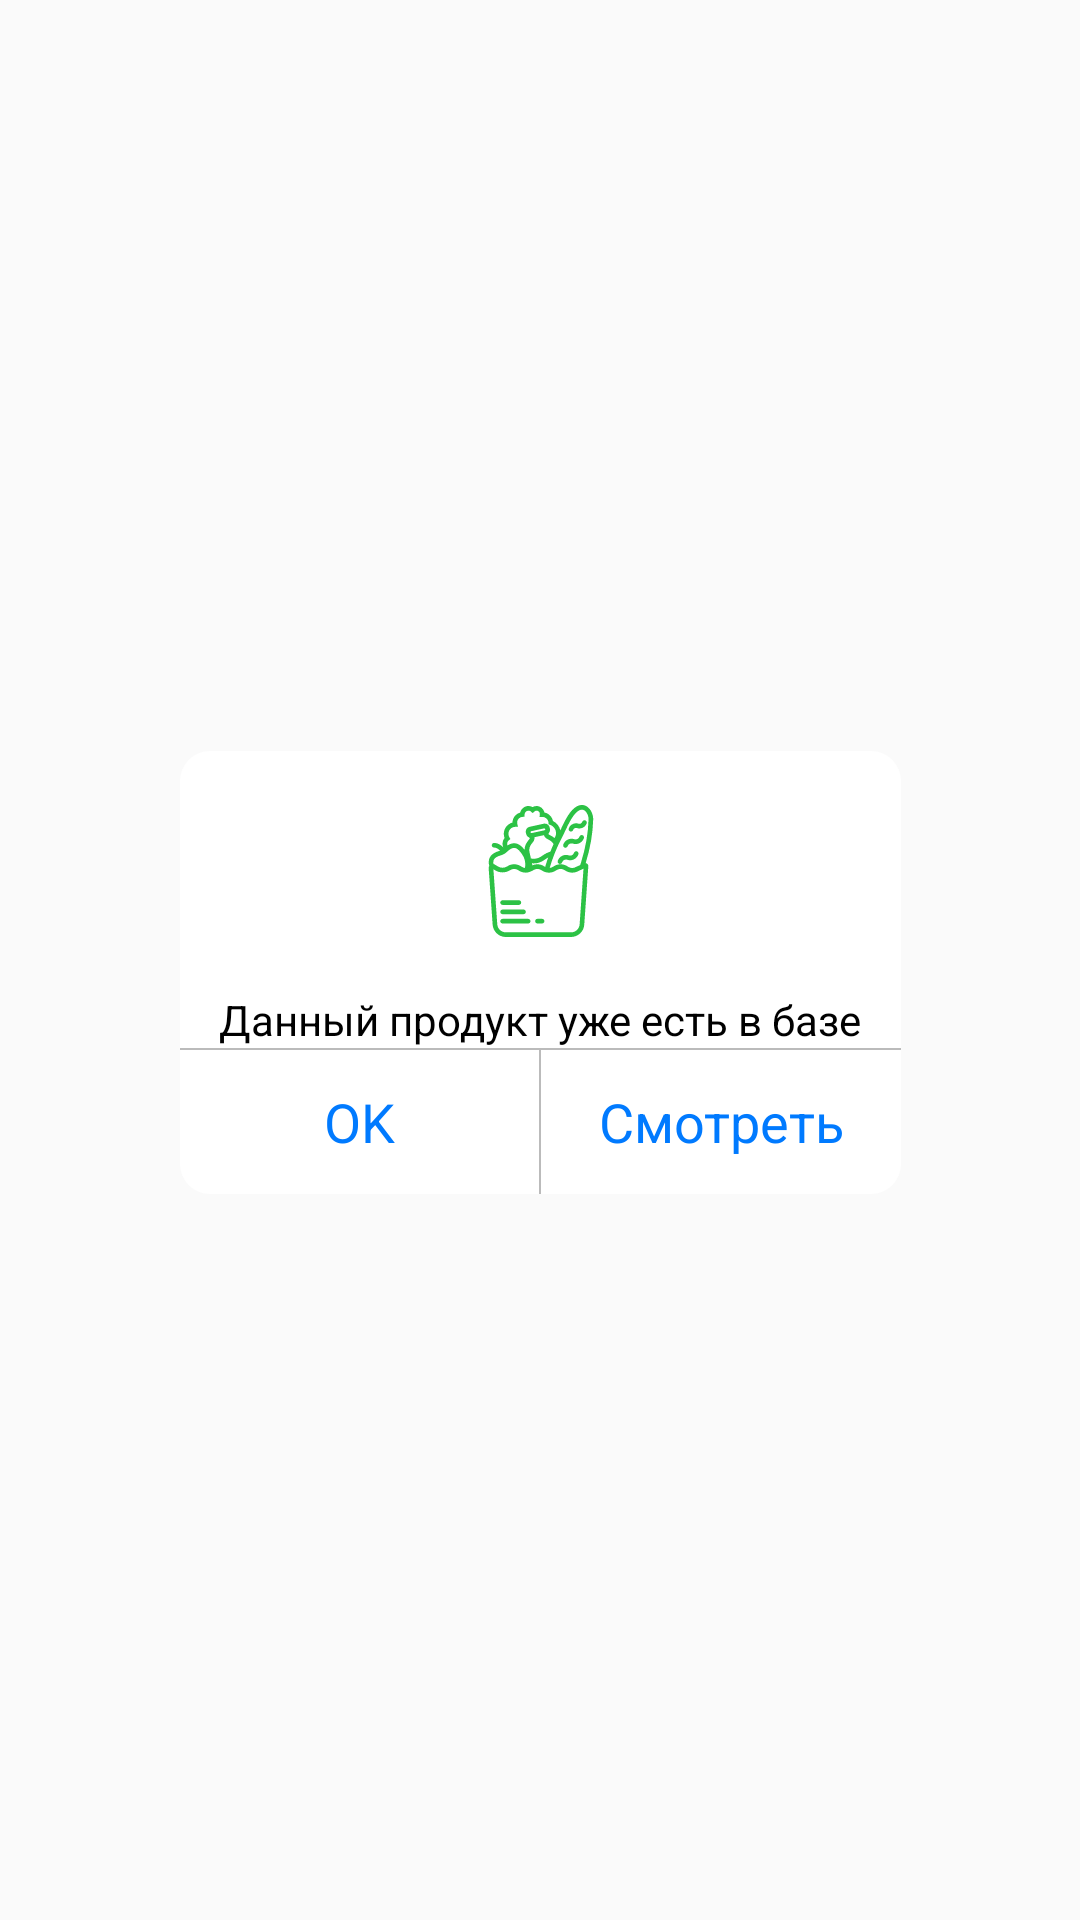

Icon bounding boxes for this 1080x1920 phone screenshot, format region(x1, y1, x2, y2):
groceries: region(488, 805, 594, 937)
